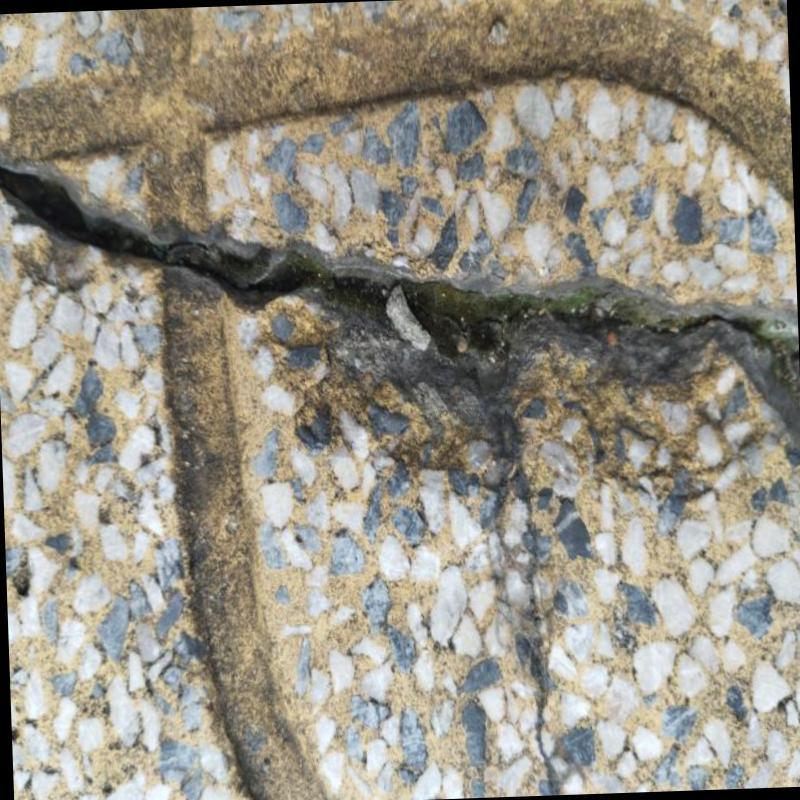pothole: (0, 161, 800, 445)
